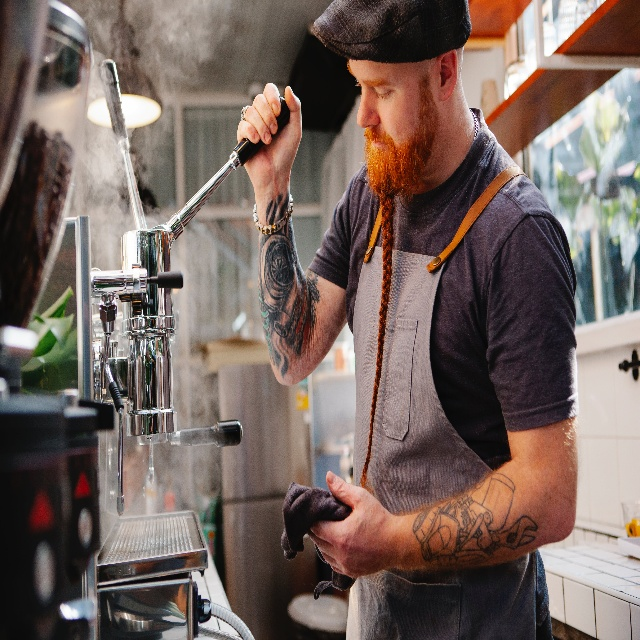Sin_guantes: (307, 470, 395, 579), (236, 82, 303, 197)
